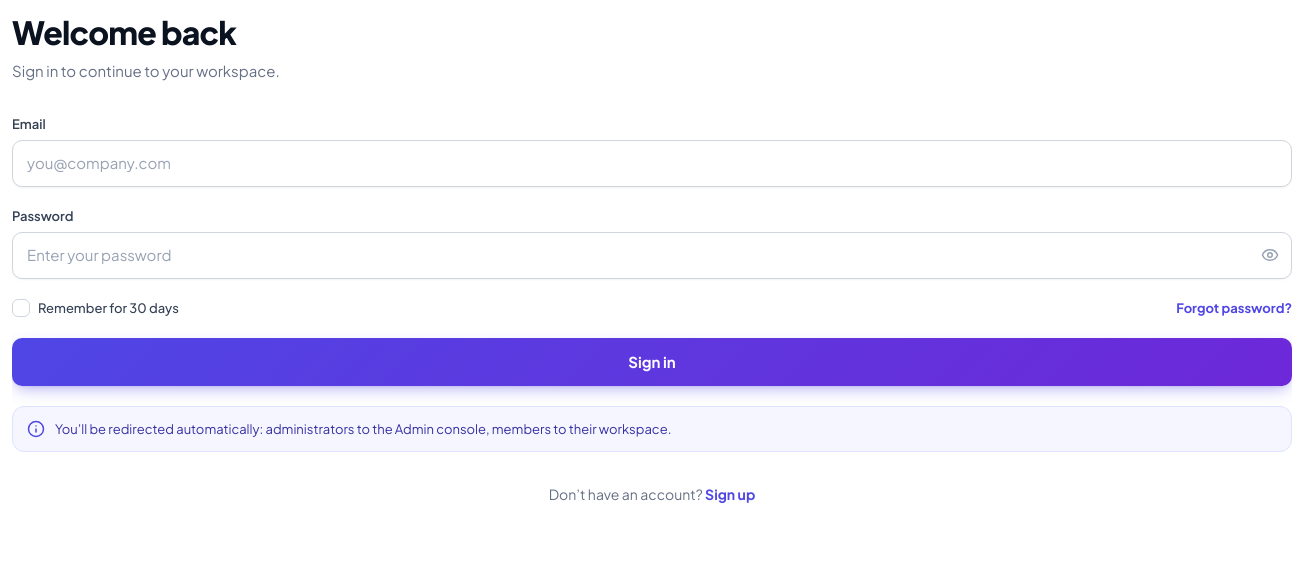
LoginPage › shows validation messages when fields are empty
This screenshot has width=1304, height=564.
Click the button "Sign in".
click(652, 362)  # box 12,338 -> 1292,386
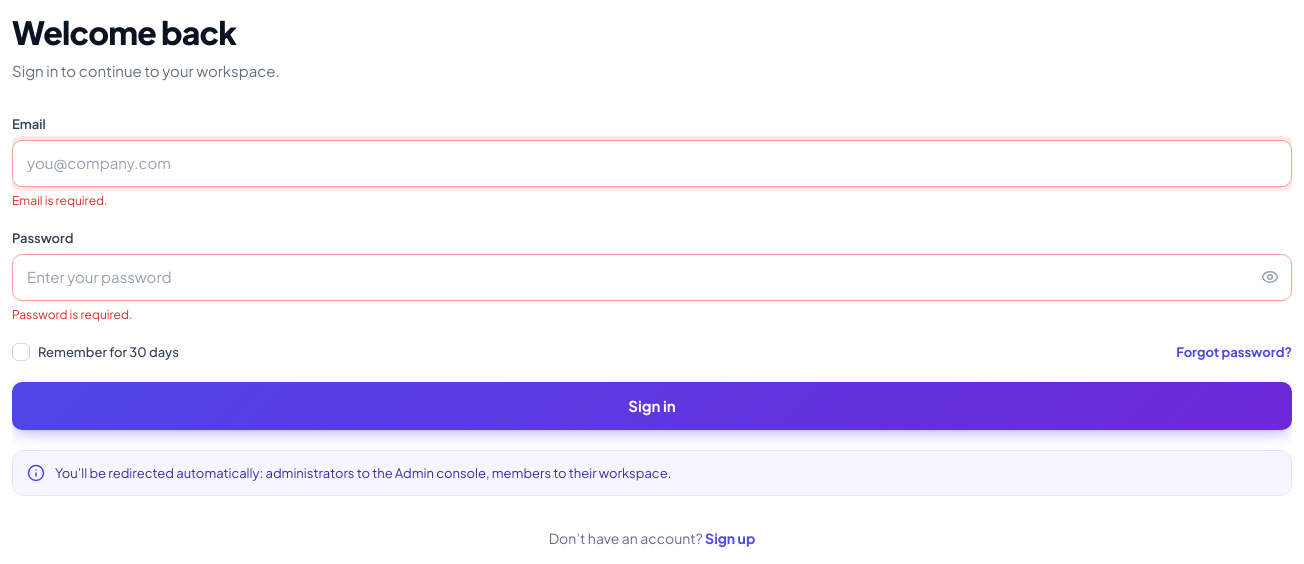
Now the text "Email is required." is shown, box 12,192 -> 108,208
Now the text "Password is required." is shown, box 12,306 -> 132,322
